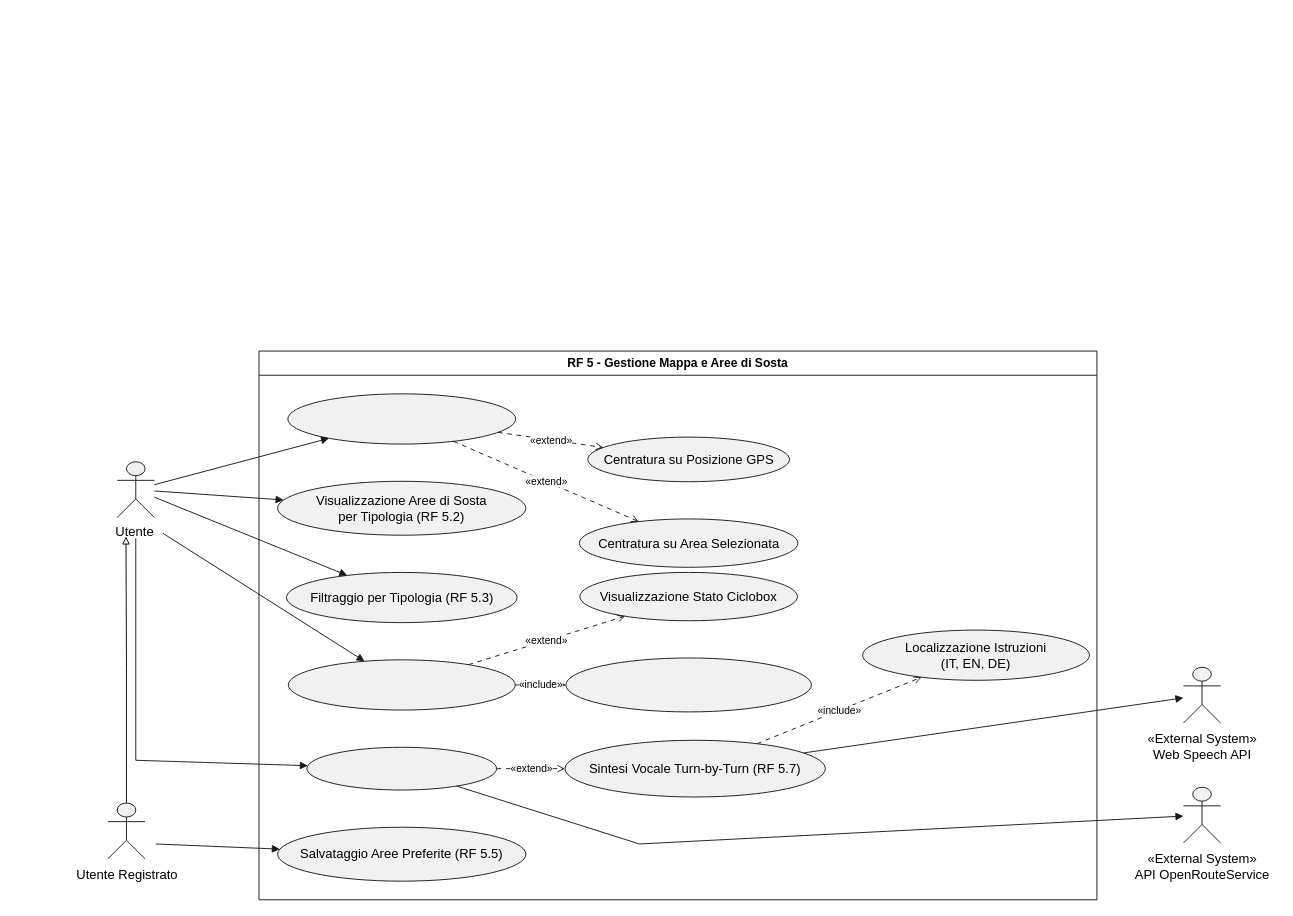
Image size: 1293x916. Some labels were removed from this diagram. The centre of each missing label's shape, as x and y in pixels:
"Calcolo Percorso (RF 5.6)" goes at (401,768).
"Dettaglio Area di Sosta (RF 5.4)" goes at (401,684).
"Visualizzazione Mappa (RF 5.1)" goes at (401,418).
"Visualizzazione Segnalazioni Utenti" goes at (688,684).
